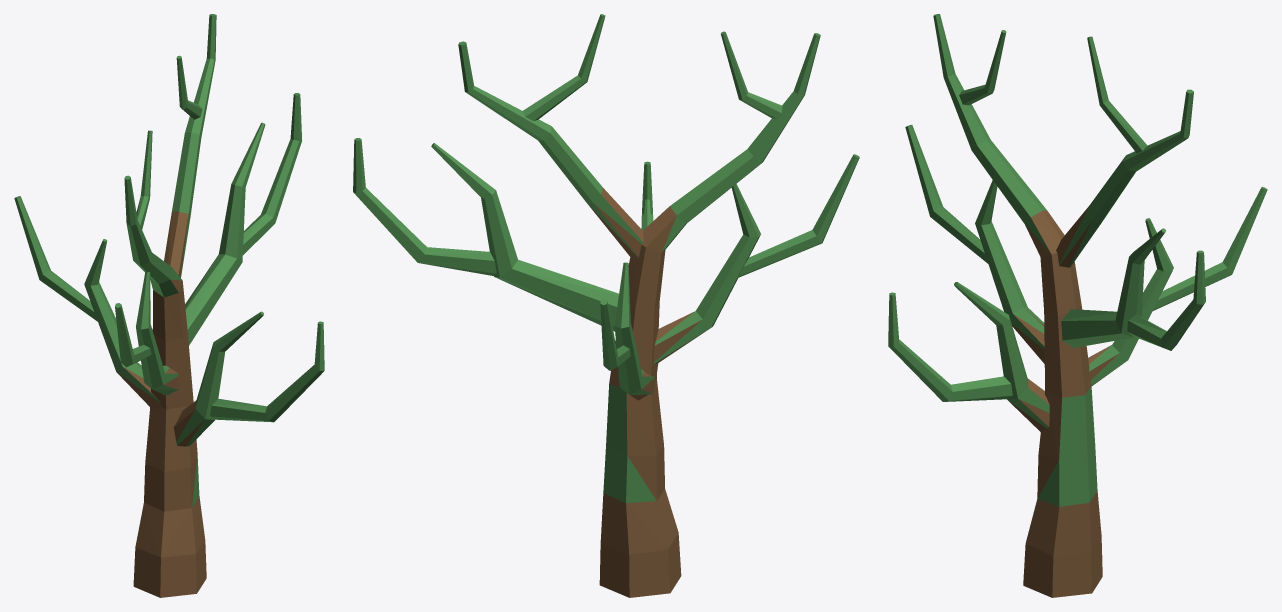
Rendered from tree3d-185.glb.
3 renders of one model, left to right at view 1: azimuth 30°, elevation 25°; view 2: azimuth 150°, elevation 25°; view 3: azimuth 270°, elevation 25°, orthographic. The views are drawn at different scales.
Parts seen in each view (by area): view 1: tree3d-185; view 2: tree3d-185; view 3: tree3d-185.
Part boxes in pixels (x1,y1,x2,y2): tree3d-185: (14,14,324,597); tree3d-185: (353,14,859,597); tree3d-185: (888,14,1267,597).
Size of the model in its own units: 0.6528 by 1 by 0.6185.
